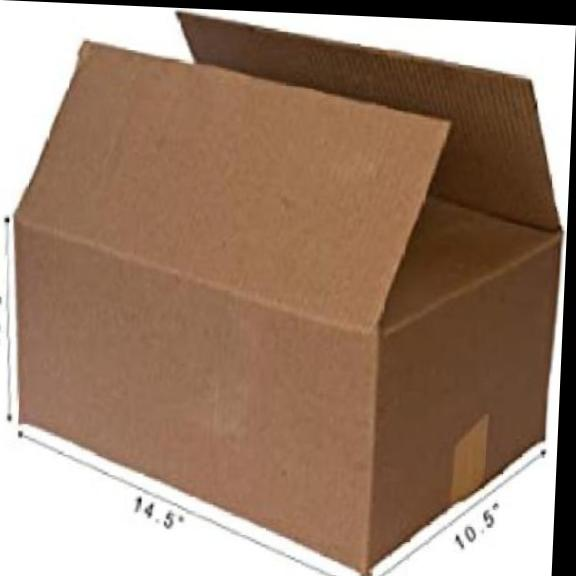Kertas: (16, 14, 560, 573)
